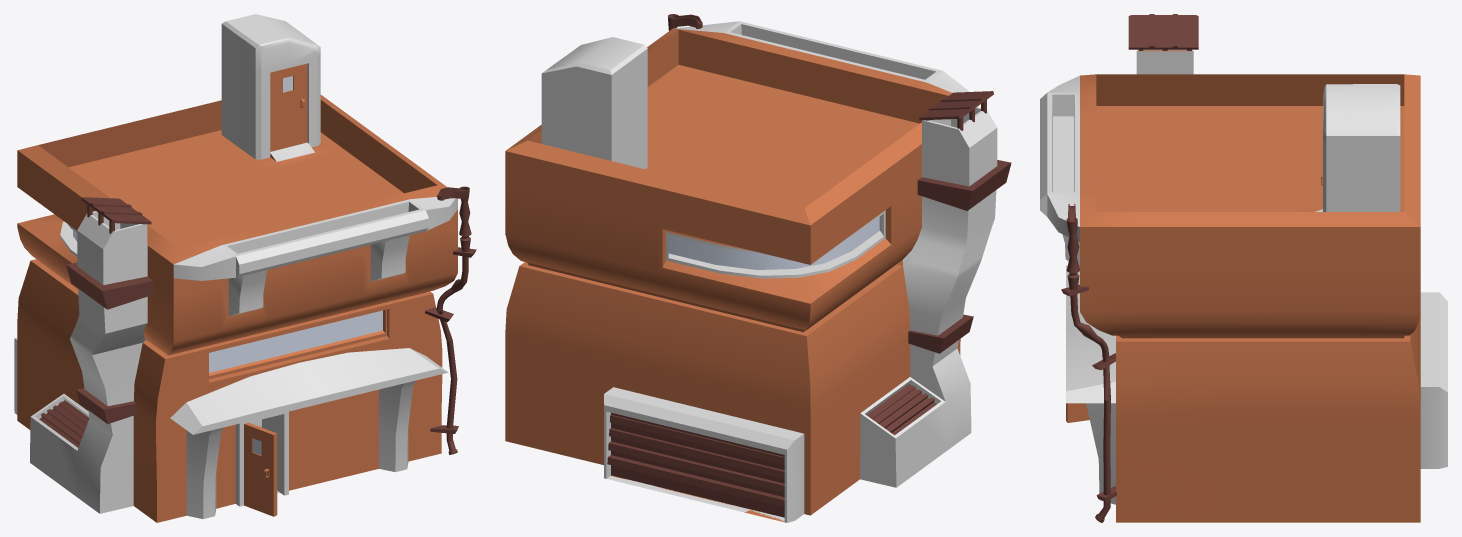
The model's file is NewTestHouse.fbx.
3 views of the same model, side by side, from view 1: azimuth 30°, elevation 25°; view 2: azimuth 150°, elevation 25°; view 3: azimuth 270°, elevation 25° (orthographic). The views are drawn at different scales.
Parts seen in each view (by area): view 1: Cube.003, door.001, door, rainpipe, Cube.007, Cube.006, Chimmneyroof, Cube.005; view 2: Cube.003, Cube.004, Cube.007, Cube.006, Chimmneyroof, Cube.005; view 3: Cube.003, rainpipe, Chimmneyroof.
Boxes of the visible parts, left/top/right/bottom form: Cube.003: left=14, top=14, right=457, bottom=522; door.001: left=270, top=63, right=307, bottom=151; door: left=244, top=422, right=277, bottom=516; rainpipe: left=436, top=186, right=471, bottom=454; Cube.007: left=66, top=262, right=153, bottom=309; Cube.006: left=39, top=400, right=89, bottom=447; Chimmneyroof: left=81, top=197, right=151, bottom=233; Cube.005: left=76, top=388, right=136, bottom=423; Cube.003: left=505, top=21, right=997, bottom=522; Cube.004: left=607, top=412, right=784, bottom=517; Cube.007: left=917, top=160, right=1011, bottom=210; Cube.006: left=866, top=384, right=936, bottom=435; Chimmneyroof: left=919, top=91, right=993, bottom=130; Cube.005: left=908, top=314, right=973, bottom=353; Cube.003: left=1040, top=49, right=1447, bottom=522; rainpipe: left=1066, top=204, right=1110, bottom=522; Chimmneyroof: left=1128, top=14, right=1198, bottom=50.
Bounding box in the file's own units: 1163 × 1254 × 1235.
